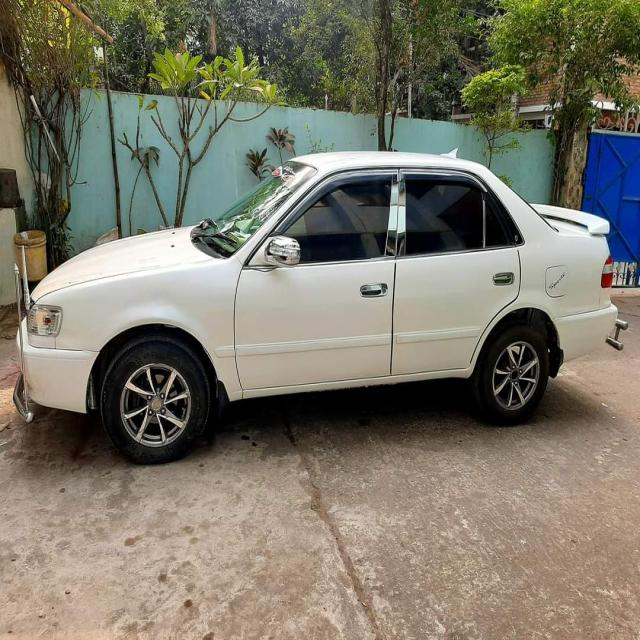white: (27, 151, 601, 407)
